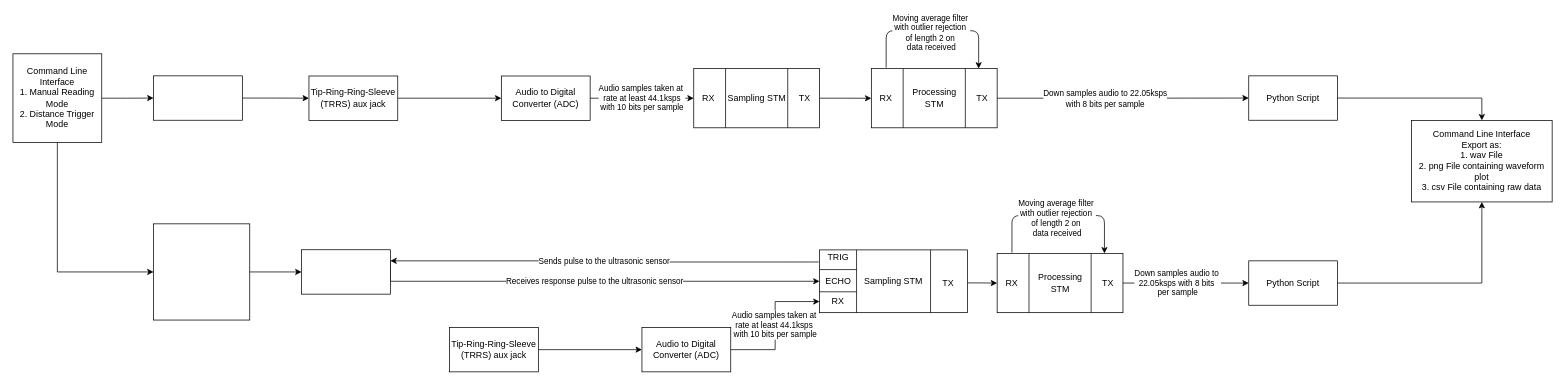
Some shapes in this 1565 by 385 pixel diagram are drawn without their labels. Each missing label, with the centre of its shape:
"Command Line Interface Confirm distance sensor starts recording (default: 10cm):" goes at (x=201, y=271).
"Command Line Interface Confirm length of recording:" goes at (x=197, y=97).
"Ultrasonic Sensor" goes at (x=345, y=271).
